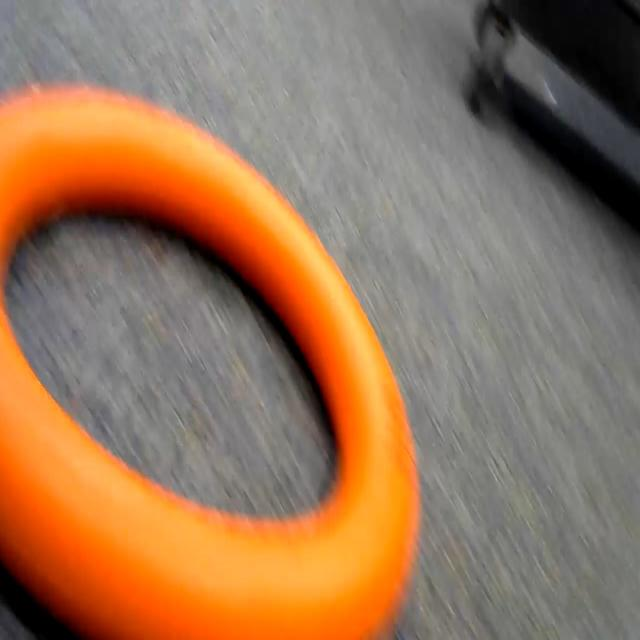note: (0, 84, 424, 640)
